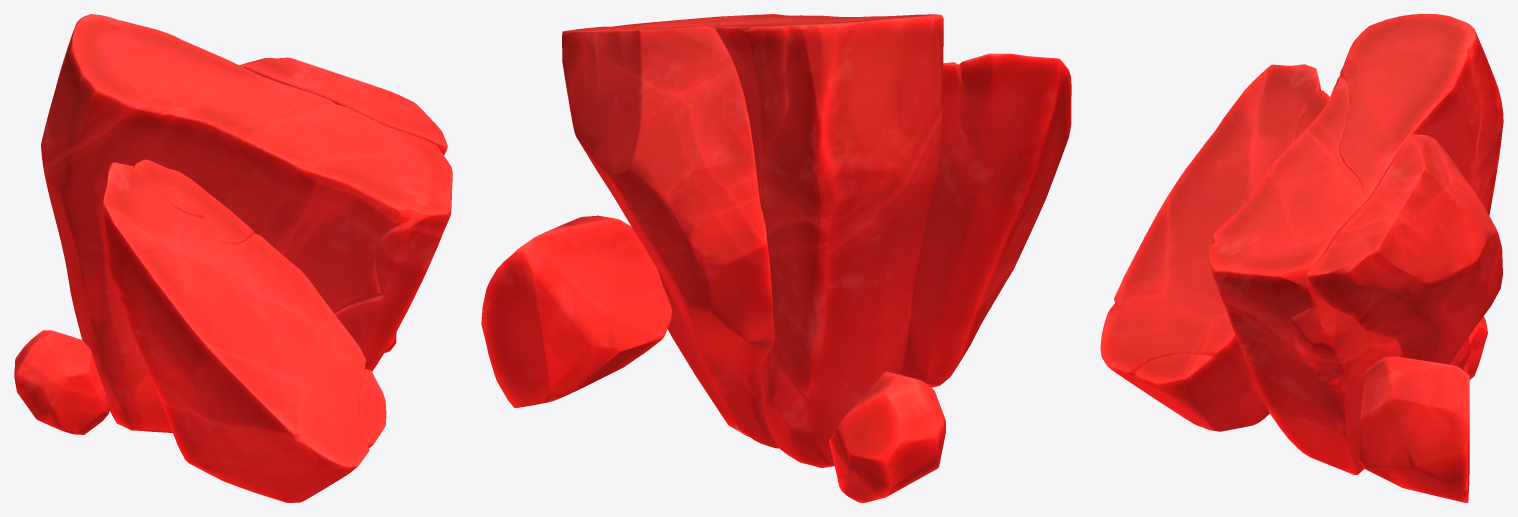
The model's file is odk_calcite_d.glb.
3 renders of one model, left to right at view 1: azimuth 30°, elevation 25°; view 2: azimuth 150°, elevation 25°; view 3: azimuth 270°, elevation 25°, orthographic. The views are drawn at different scales.
Parts seen in each view (by area): view 1: odk_calcite_d; view 2: odk_calcite_d; view 3: odk_calcite_d.
Part boxes in pixels (x1,y1,x2,y2): odk_calcite_d: [14, 14, 452, 502]; odk_calcite_d: [481, 14, 1071, 502]; odk_calcite_d: [1100, 14, 1503, 502].
Size of the model in its own units: 33.13 by 34.84 by 32.86.
1 material, 1 textured.
